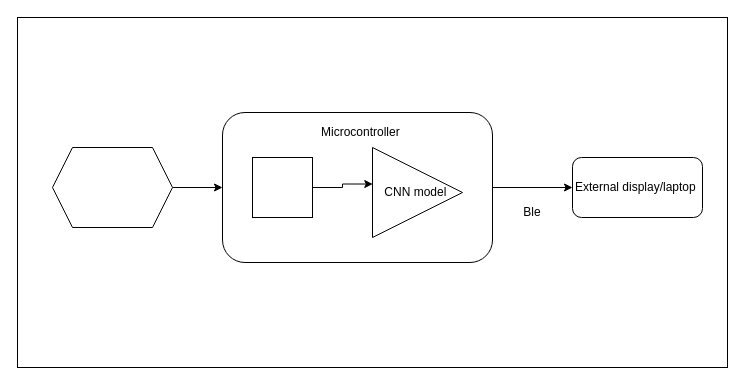
This 745x385 diagram has some shape labels left out. The shapes that lost their labels are listed below. From the top down, each one's centre as x and y in pixels, then its label:
pixel 112 187: Fruit
pixel 282 187: Camera module
